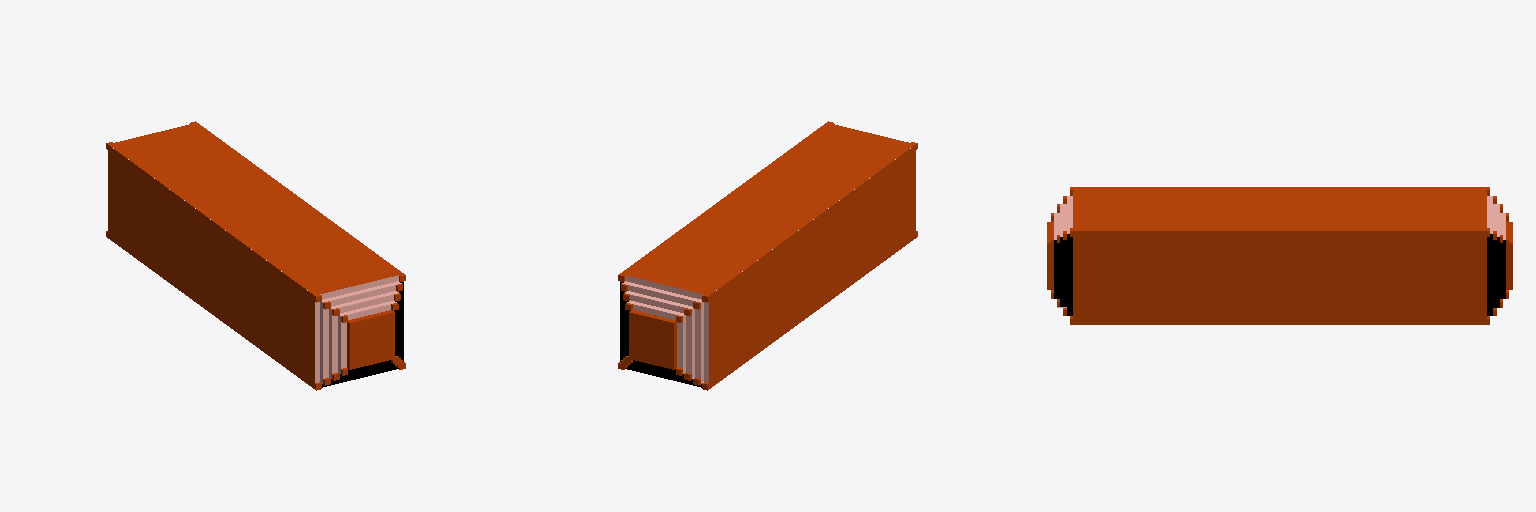
3 views of the same model, side by side, from view 1: azimuth 30°, elevation 25°; view 2: azimuth 150°, elevation 25°; view 3: azimuth 270°, elevation 25° (orthographic).
Parts seen in each view (by area): view 1: Cube; view 2: Cube; view 3: Cube.
Part boxes in pixels (left/top/right/bottom): Cube: left=106, top=121, right=405, bottom=390; Cube: left=618, top=121, right=917, bottom=390; Cube: left=1047, top=187, right=1512, bottom=324.
Bounding box in the file's own units: 160 × 160 × 720.
1 materials, 1 textured.